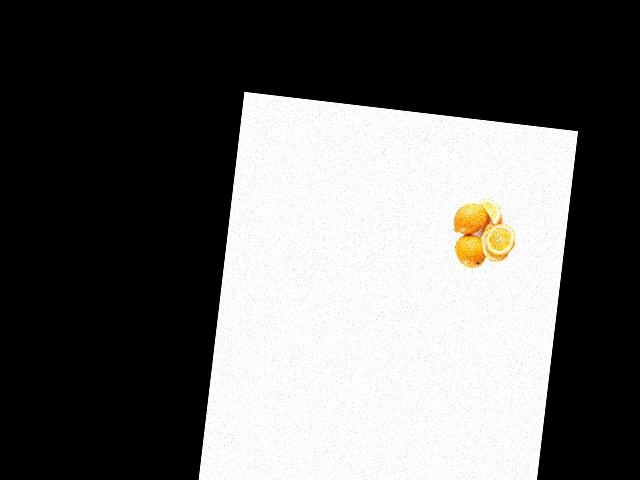lemon: (452, 229, 486, 268)
